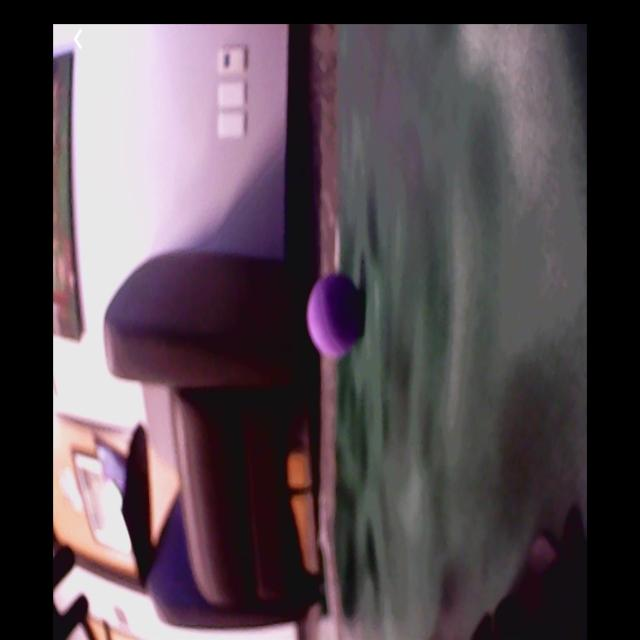ball: (310, 275, 364, 360)
